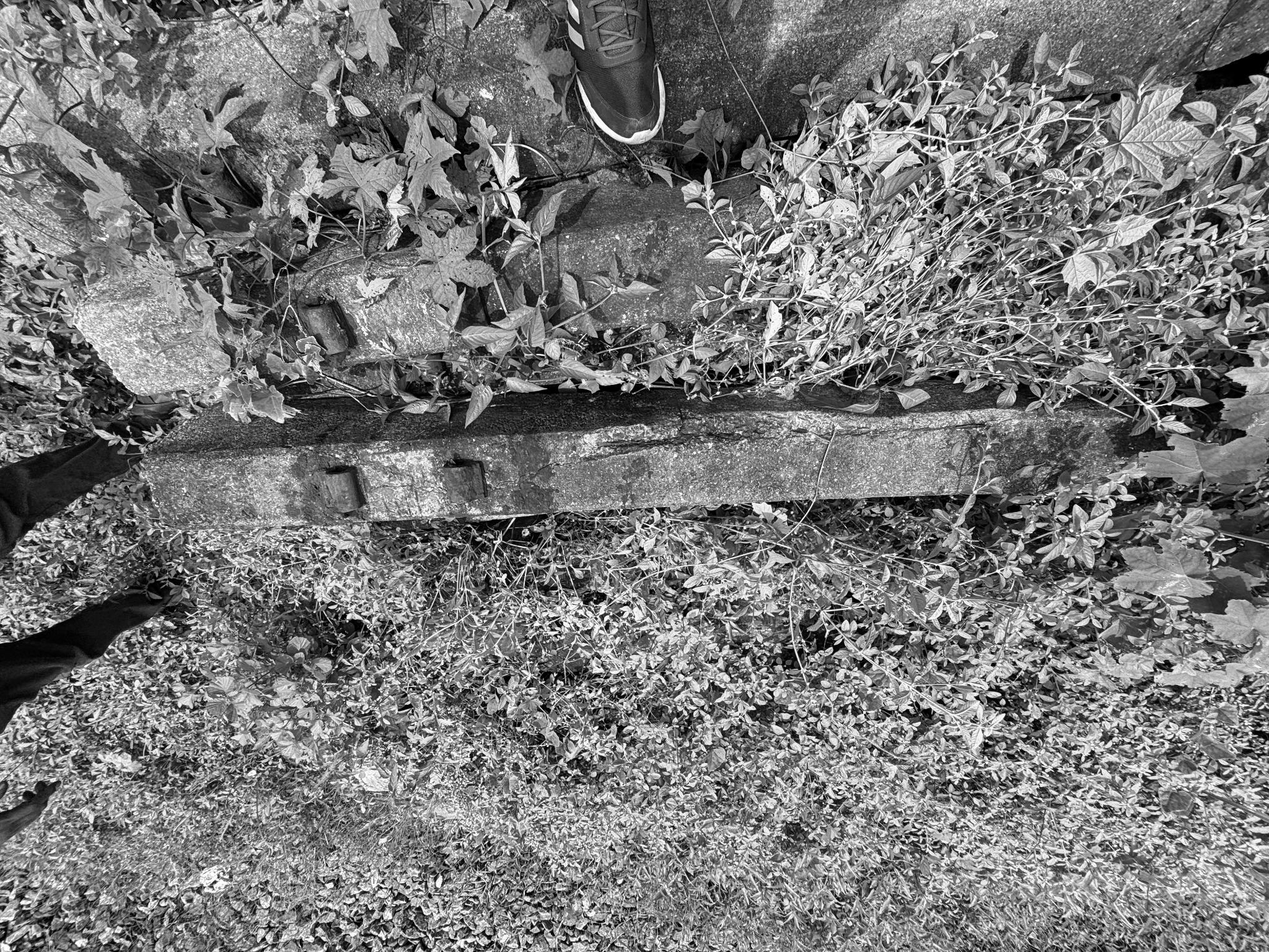cracks in midportion: (482, 382, 1027, 498)
cracks under rail seat: (354, 476, 452, 506)
